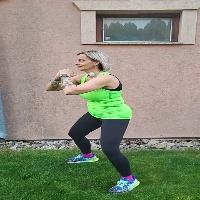squats: (47, 52, 149, 192)
